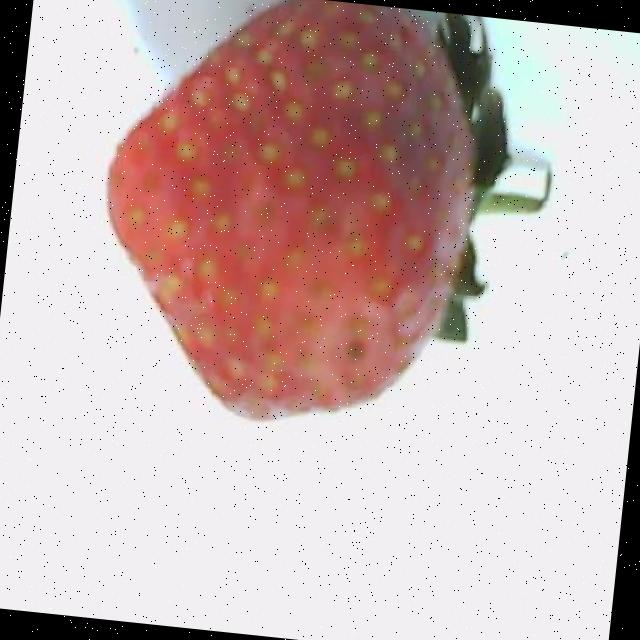strawberry: (106, 0, 550, 419)
